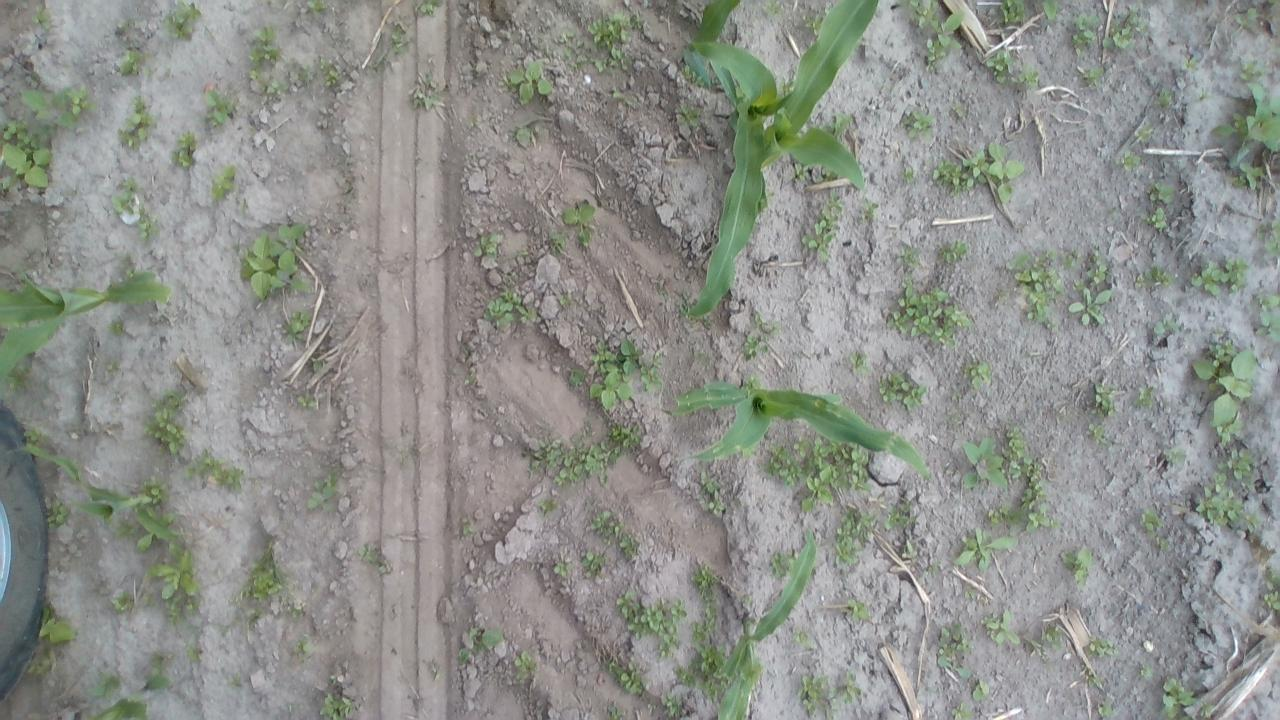Maize: (682, 0, 878, 320), (668, 379, 936, 486), (1, 268, 172, 386), (715, 531, 816, 720), (8, 444, 182, 546), (89, 676, 170, 720), (693, 0, 739, 44), (1042, 0, 1064, 21)
Weeds: (568, 334, 664, 411), (530, 422, 636, 489), (1190, 330, 1250, 446), (792, 435, 874, 514), (1210, 82, 1280, 162), (879, 282, 967, 344), (239, 222, 306, 300), (615, 592, 689, 660), (1006, 428, 1056, 528), (1, 108, 56, 197), (1005, 246, 1059, 326), (1196, 472, 1260, 532), (588, 14, 648, 70), (951, 526, 1019, 574), (798, 195, 848, 260), (972, 142, 1026, 202), (245, 23, 288, 95), (238, 540, 284, 600), (21, 80, 74, 128), (110, 179, 152, 239), (185, 450, 242, 494), (591, 510, 641, 560), (150, 548, 198, 598), (836, 509, 875, 569), (879, 367, 930, 412), (922, 10, 966, 62), (962, 435, 1006, 486), (486, 288, 539, 330), (1190, 257, 1250, 293), (1098, 8, 1150, 48), (1070, 280, 1114, 326), (118, 92, 150, 153), (163, 0, 206, 43), (979, 606, 1022, 648), (405, 68, 446, 112), (554, 30, 596, 70), (509, 60, 553, 98), (146, 410, 183, 455), (764, 445, 802, 487), (602, 660, 648, 694), (566, 202, 599, 248), (39, 601, 75, 643), (512, 108, 552, 145), (1062, 543, 1096, 586), (307, 470, 340, 512), (1256, 293, 1280, 344), (934, 160, 968, 196), (935, 620, 975, 650), (1163, 676, 1199, 709), (689, 606, 726, 638), (1217, 448, 1253, 480), (796, 674, 821, 720), (700, 472, 726, 516), (899, 110, 936, 140), (689, 644, 725, 674), (986, 49, 1016, 85), (690, 561, 719, 598), (1070, 12, 1098, 50), (172, 132, 201, 168), (206, 90, 235, 126), (908, 0, 942, 30), (210, 164, 236, 200), (1258, 216, 1280, 258), (26, 645, 55, 676), (1096, 383, 1124, 415), (164, 597, 196, 624), (322, 690, 350, 720), (838, 668, 863, 701), (675, 103, 708, 128), (936, 237, 965, 265), (74, 84, 100, 115), (287, 311, 318, 337), (468, 628, 506, 649), (119, 50, 152, 74), (886, 504, 913, 533), (1238, 160, 1264, 190), (964, 357, 988, 388), (31, 4, 58, 31), (1139, 510, 1167, 536), (1150, 314, 1182, 336), (392, 17, 411, 53), (1000, 1, 1027, 26), (903, 245, 930, 270), (1087, 252, 1108, 284), (584, 552, 609, 578), (473, 234, 498, 260), (754, 312, 780, 336), (46, 498, 66, 529), (1088, 635, 1119, 655), (413, 0, 445, 19), (1018, 64, 1046, 85), (768, 554, 793, 577), (8, 364, 28, 392), (1149, 182, 1177, 202), (824, 674, 836, 720), (939, 657, 968, 676), (112, 589, 137, 611), (162, 391, 188, 412), (952, 702, 982, 720), (552, 557, 572, 584), (829, 112, 853, 134), (1122, 150, 1146, 172), (516, 651, 541, 672), (320, 58, 340, 84), (1082, 66, 1108, 86), (665, 693, 685, 718), (744, 336, 766, 358), (700, 679, 723, 700), (1237, 8, 1260, 29), (1136, 382, 1154, 408), (143, 479, 165, 500), (1086, 422, 1108, 443), (850, 598, 871, 620), (545, 232, 567, 253), (1147, 208, 1166, 232), (1164, 448, 1192, 464), (1080, 667, 1104, 685), (967, 682, 991, 700), (989, 506, 1010, 526), (672, 664, 691, 686), (1154, 264, 1173, 286), (98, 678, 116, 701), (150, 650, 168, 672), (1138, 662, 1157, 682), (1098, 698, 1118, 717), (358, 546, 379, 564), (1026, 638, 1044, 659), (850, 353, 868, 374), (116, 17, 138, 34), (794, 628, 814, 646), (1262, 591, 1280, 610), (790, 162, 808, 180), (901, 539, 918, 558), (24, 428, 44, 444), (296, 640, 316, 656), (1046, 622, 1062, 642), (1066, 250, 1082, 270), (1241, 59, 1257, 79), (304, 0, 330, 12), (118, 521, 136, 538), (681, 68, 700, 84), (1265, 568, 1280, 588), (865, 199, 880, 218), (460, 516, 474, 536), (810, 14, 824, 34), (1136, 272, 1150, 292), (900, 162, 914, 182), (1154, 94, 1174, 108), (185, 645, 202, 661), (458, 648, 474, 664), (140, 534, 154, 552), (105, 356, 122, 370), (538, 500, 559, 511), (763, 4, 782, 16), (1137, 127, 1152, 142), (298, 67, 312, 83), (112, 320, 125, 336), (250, 610, 262, 627), (1186, 56, 1200, 70), (163, 514, 179, 526), (556, 292, 572, 304), (314, 359, 326, 373), (1158, 538, 1172, 550), (613, 88, 626, 100), (296, 395, 310, 406), (742, 592, 754, 604), (610, 712, 626, 720)
